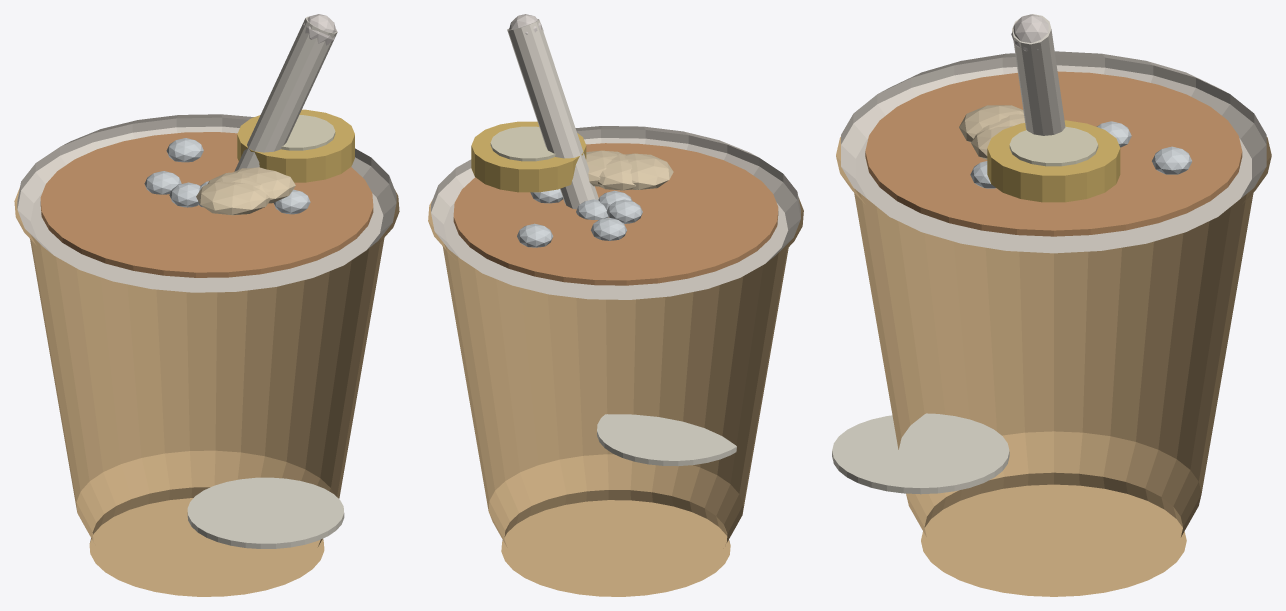
File: tra_dao.glb
The picture shows the model from 3 angles, left to right: view 1: azimuth 30°, elevation 25°; view 2: azimuth 150°, elevation 25°; view 3: azimuth 270°, elevation 25°; orthographic projection. The views are drawn at different scales.
Visible parts, largest first — view 1: obj_0000, obj_0001, obj_0002, obj_0003, obj_0004, obj_0013, obj_0015, obj_0014, obj_0016, obj_0011, obj_0009, obj_0005 (+2 smaller); view 2: obj_0000, obj_0001, obj_0002, obj_0004, obj_0003, obj_0013, obj_0014, obj_0015, obj_0017, obj_0011, obj_0016, obj_0009 (+2 smaller); view 3: obj_0000, obj_0001, obj_0002, obj_0003, obj_0013, obj_0004, obj_0014, obj_0015, obj_0011, obj_0005.
Part boxes in pixels (<box>): obj_0000: <box>14,187,399,596</box>; obj_0001: <box>40,132,373,277</box>; obj_0002: <box>17,114,396,292</box>; obj_0003: <box>187,477,344,548</box>; obj_0004: <box>234,16,337,171</box>; obj_0013: <box>237,109,354,182</box>; obj_0015: <box>196,181,269,215</box>; obj_0014: <box>281,115,335,150</box>; obj_0016: <box>234,167,295,203</box>; obj_0011: <box>166,138,203,162</box>; obj_0009: <box>144,171,181,194</box>; obj_0005: <box>302,14,336,45</box>; obj_0000: <box>428,197,803,596</box>; obj_0001: <box>453,143,778,285</box>; obj_0002: <box>431,126,800,299</box>; obj_0004: <box>507,19,598,209</box>; obj_0003: <box>597,414,736,466</box>; obj_0013: <box>471,121,586,192</box>; obj_0014: <box>490,126,555,161</box>; obj_0015: <box>624,153,673,189</box>; obj_0017: <box>598,154,636,190</box>; obj_0011: <box>517,223,553,247</box>; obj_0016: <box>586,150,622,186</box>; obj_0009: <box>591,217,626,240</box>; obj_0000: <box>836,137,1271,596</box>; obj_0001: <box>865,71,1242,236</box>; obj_0002: <box>841,51,1266,253</box>; obj_0003: <box>832,413,1009,494</box>; obj_0013: <box>987,120,1120,202</box>; obj_0004: <box>1012,14,1065,135</box>; obj_0014: <box>1009,126,1098,166</box>; obj_0015: <box>959,105,1023,142</box>; obj_0011: <box>1152,146,1192,174</box>; obj_0005: <box>1011,14,1048,51</box>.
Bounding box in the file's own units: 1.18 × 1.73 × 1.19.
